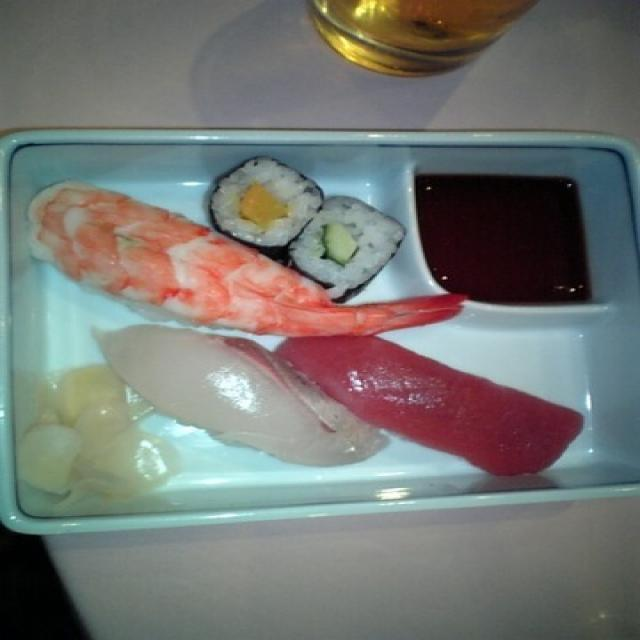Sushi: (200, 156, 316, 252), (298, 206, 398, 284)
